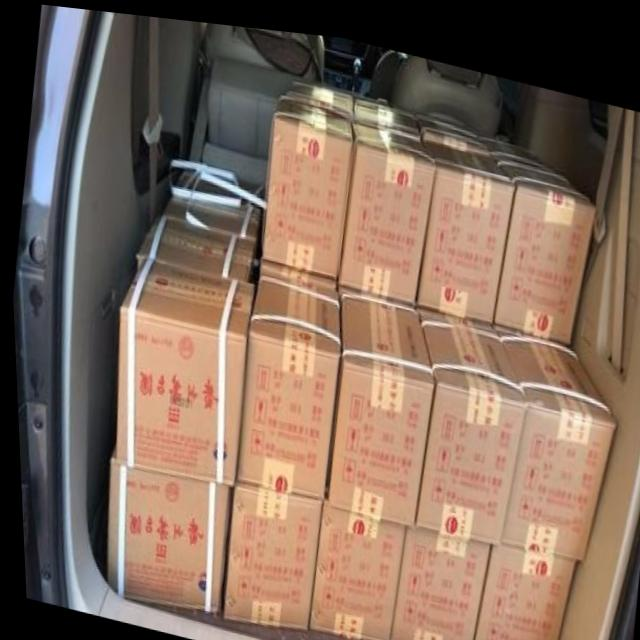box: (112, 254, 252, 481), (490, 309, 614, 547), (410, 296, 524, 535), (321, 285, 433, 518), (232, 267, 338, 493), (102, 448, 228, 607), (490, 143, 595, 333), (415, 130, 513, 314), (336, 113, 433, 296), (258, 93, 354, 272), (218, 477, 317, 624), (303, 493, 402, 636), (383, 518, 487, 640), (467, 535, 571, 640), (135, 210, 254, 277)
